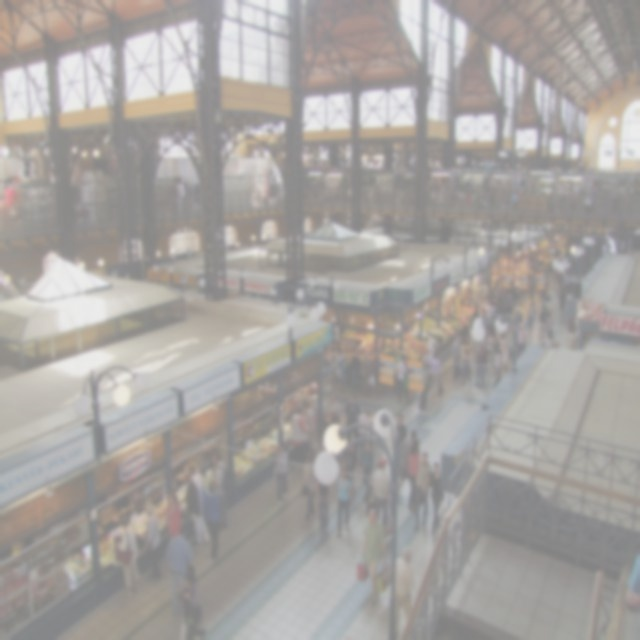pessoa: (356, 508, 393, 606), (165, 524, 195, 618), (114, 512, 141, 598), (184, 463, 210, 546), (394, 548, 416, 638), (288, 400, 320, 460), (180, 570, 207, 640), (201, 480, 223, 560), (212, 451, 233, 532), (143, 499, 162, 582), (413, 451, 432, 532), (300, 454, 318, 528), (290, 406, 310, 470), (335, 467, 353, 537), (398, 428, 418, 491), (429, 461, 445, 536), (343, 393, 362, 454), (407, 436, 422, 512), (340, 440, 360, 492), (356, 408, 372, 468), (625, 550, 639, 614), (274, 443, 288, 506), (314, 475, 330, 530), (362, 439, 375, 504), (367, 348, 383, 399), (166, 490, 182, 540), (396, 354, 412, 404), (428, 350, 444, 400), (474, 340, 490, 388), (541, 236, 567, 264), (459, 348, 474, 390), (428, 174, 472, 188), (359, 352, 372, 398), (420, 363, 432, 411), (335, 346, 347, 393), (350, 348, 362, 394), (452, 336, 464, 380), (322, 408, 334, 447), (512, 306, 524, 344), (516, 322, 528, 359), (485, 330, 496, 370), (565, 314, 578, 346), (493, 348, 503, 389), (329, 392, 341, 426), (526, 301, 538, 335), (396, 413, 408, 446), (496, 332, 508, 365), (538, 304, 548, 342), (422, 355, 432, 392), (546, 311, 556, 347), (477, 340, 487, 372), (468, 312, 476, 351), (504, 293, 514, 324), (558, 283, 568, 312), (566, 326, 577, 351), (452, 334, 461, 364), (423, 336, 434, 360), (536, 260, 551, 277), (486, 316, 496, 340), (564, 272, 572, 301), (540, 279, 548, 307), (481, 308, 488, 340), (492, 277, 500, 302), (370, 413, 378, 438), (510, 266, 520, 286), (544, 332, 556, 348), (499, 292, 507, 316), (484, 300, 494, 318), (571, 187, 586, 198), (472, 302, 480, 320), (604, 235, 612, 253), (553, 269, 559, 292), (492, 298, 500, 314), (280, 412, 286, 431), (530, 277, 534, 304), (500, 284, 506, 302), (530, 268, 536, 282), (558, 270, 564, 284), (480, 298, 488, 308), (554, 342, 560, 349)
